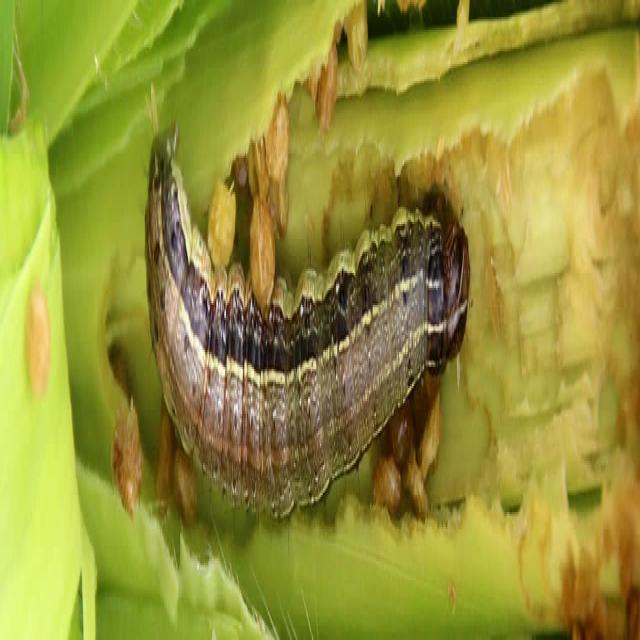Fall-armyworm: (143, 119, 472, 538)
